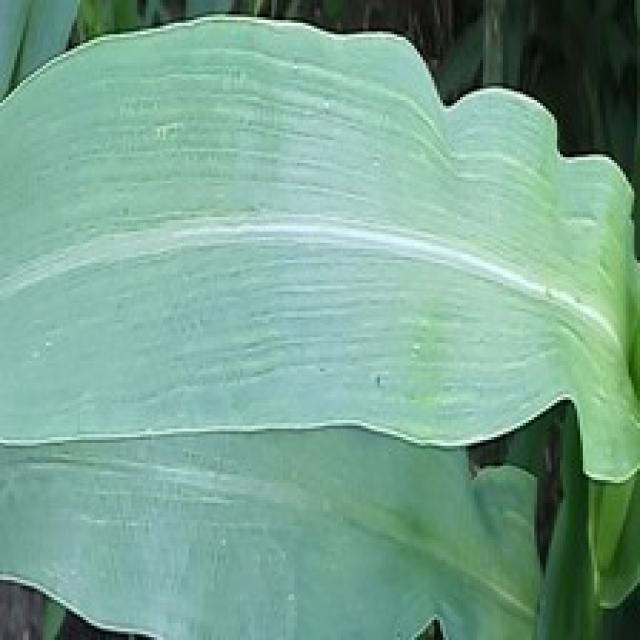Corn: (0, 9, 637, 637)
